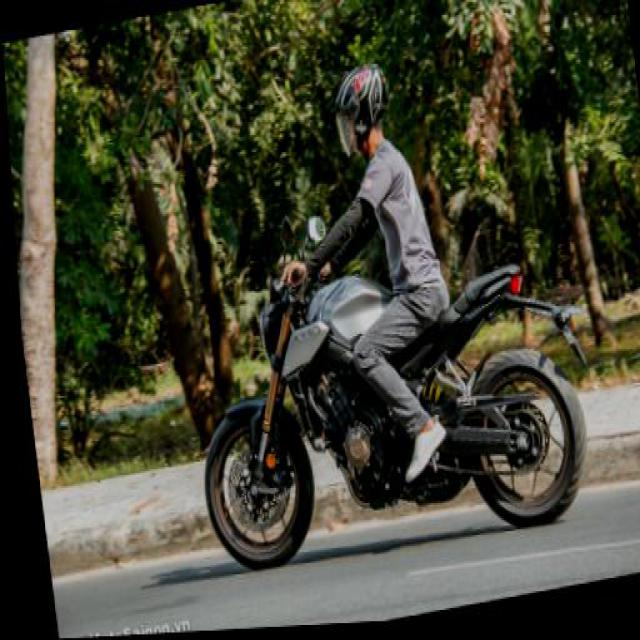CB650R: (172, 230, 594, 588)
